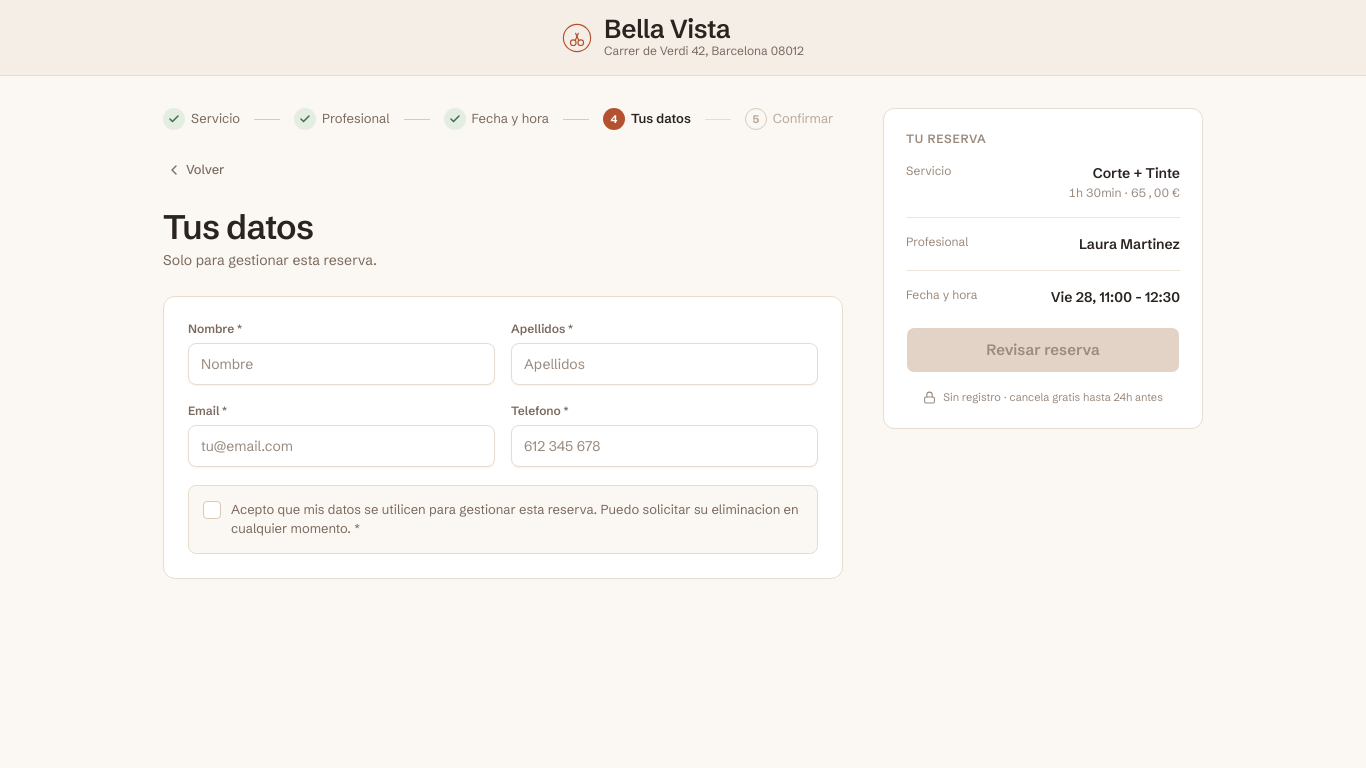
Test: PublicClientStep › habilita el CTA solo cuando los campos obligatorios y el consentimiento estan completos
In the field labelled "Nombre *": (342, 364) [188,343,495,385], type "Ana"
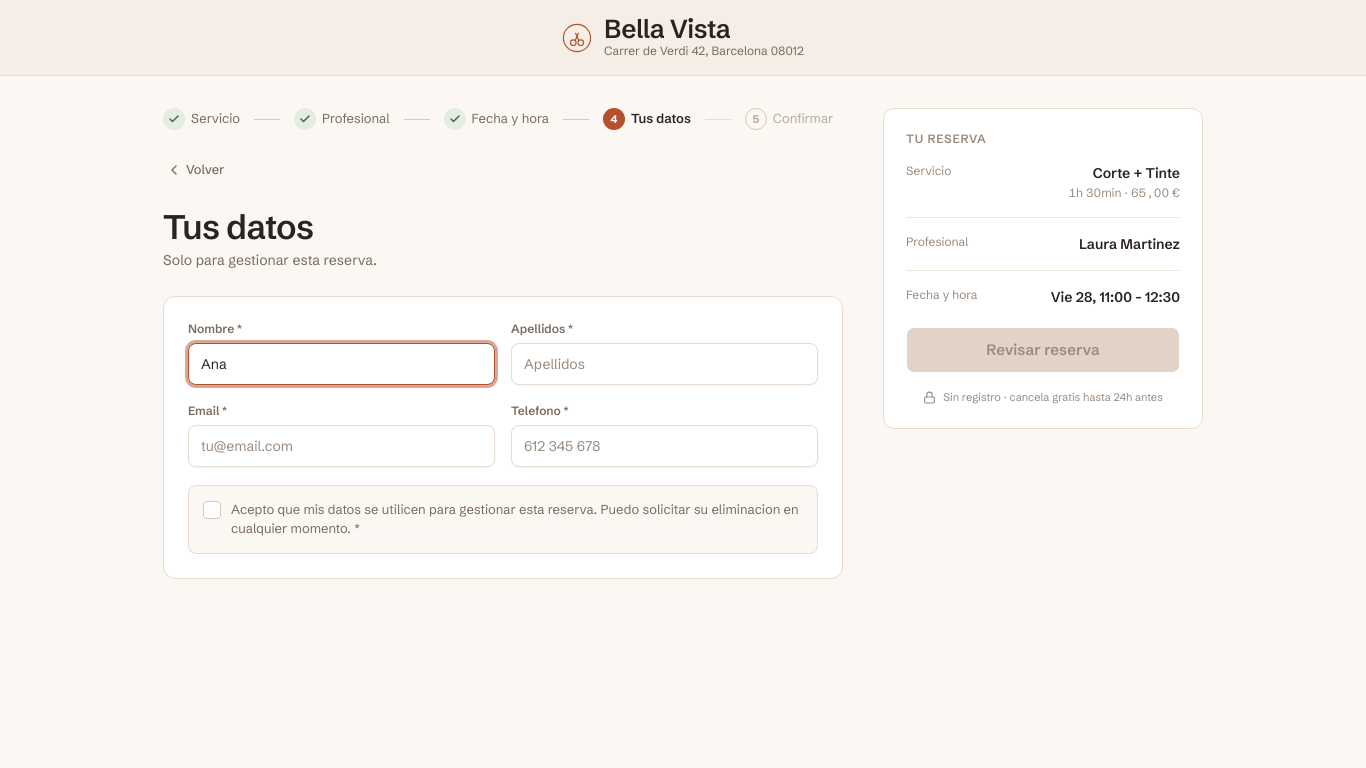
In the field labelled "Apellidos *": (664, 364) [511,343,818,385], type "Garcia"
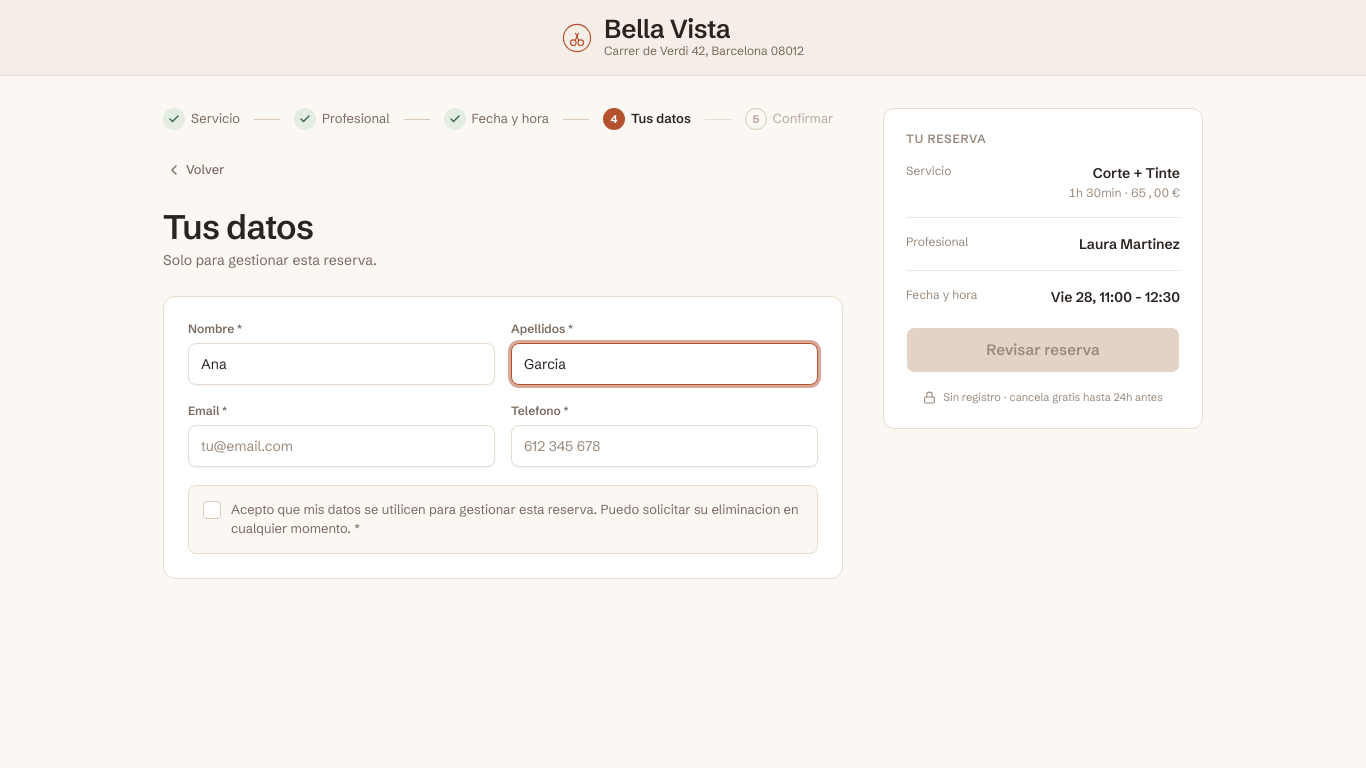
In the field labelled "Email *": (342, 446) [188,425,495,467], type "ana@example.com"
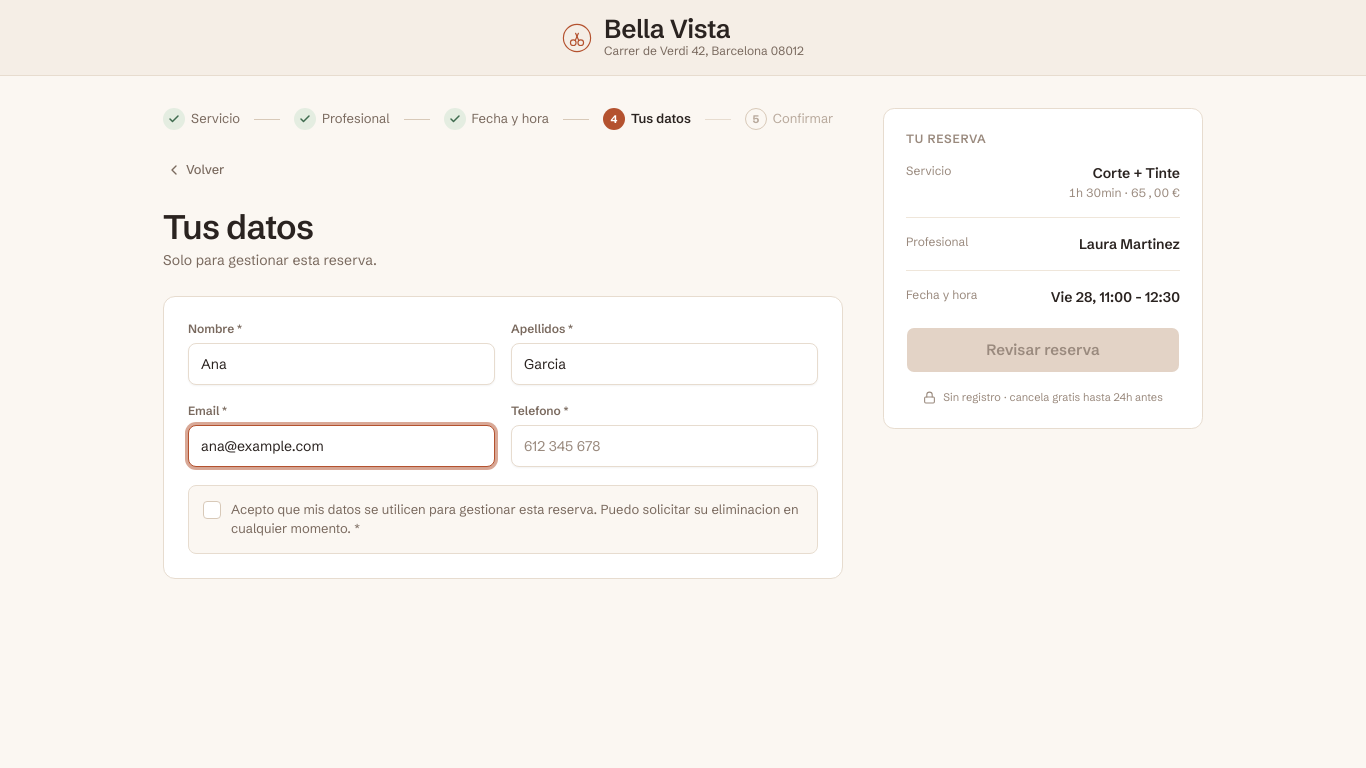
In the field labelled "Telefono *": (664, 446) [511,425,818,467], type "612345678"
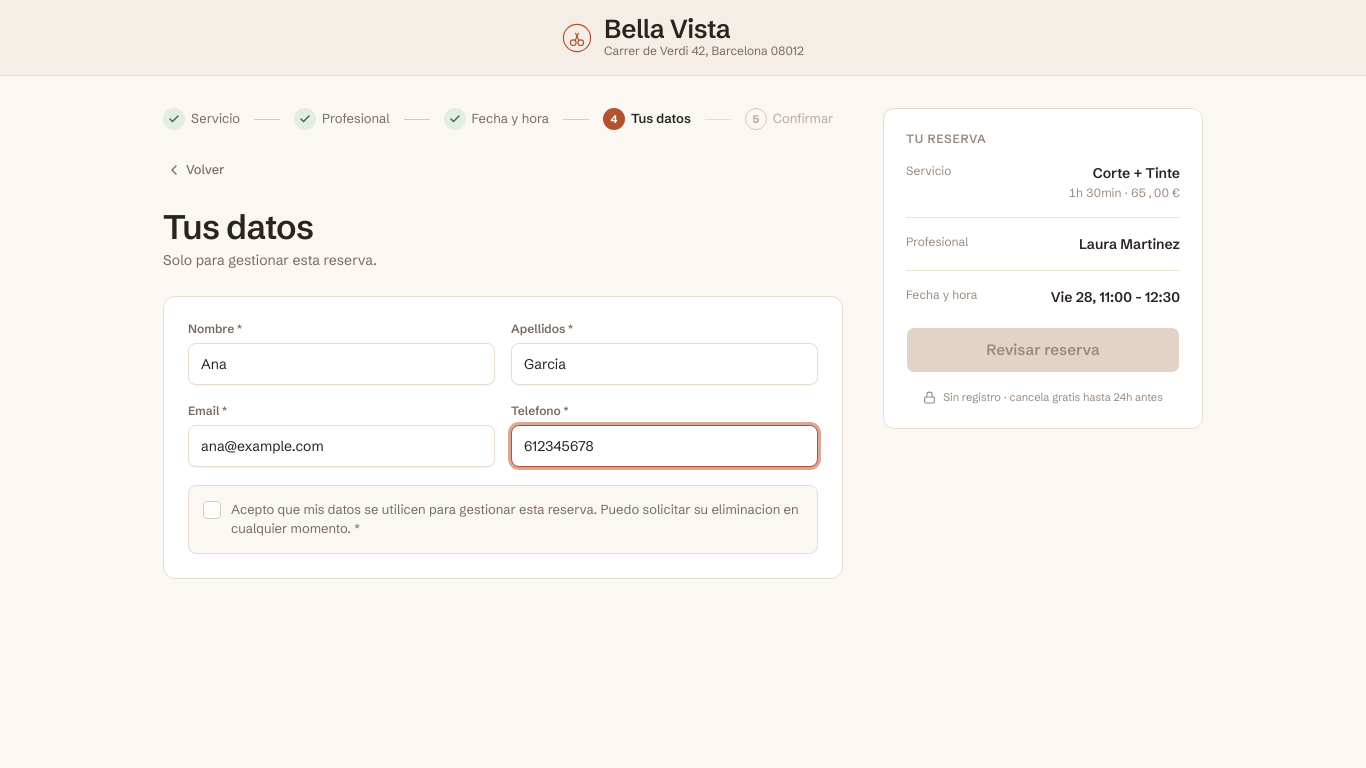
Click the 1st checkbox: click(212, 510) [203,501,221,519]
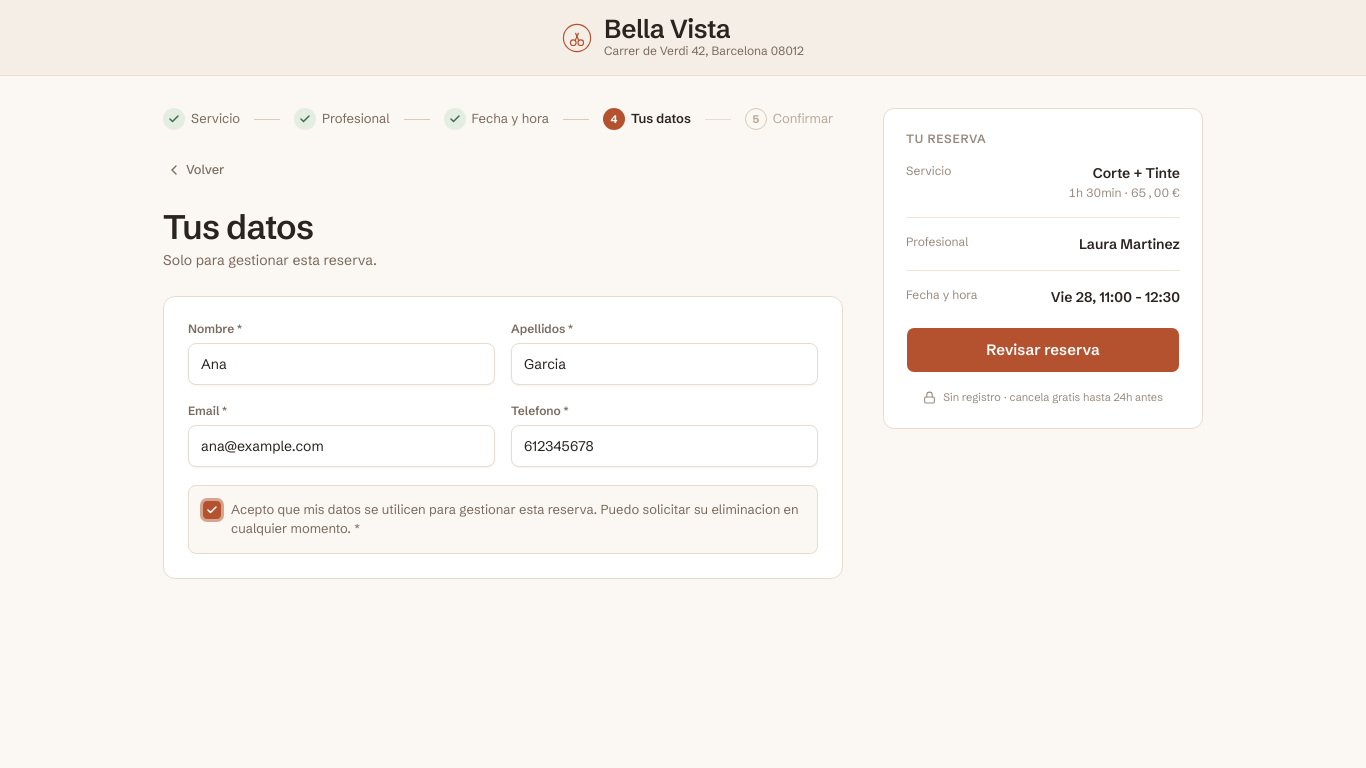
Now the button "Revisar reserva" is enabled, box [906,327,1180,373]
